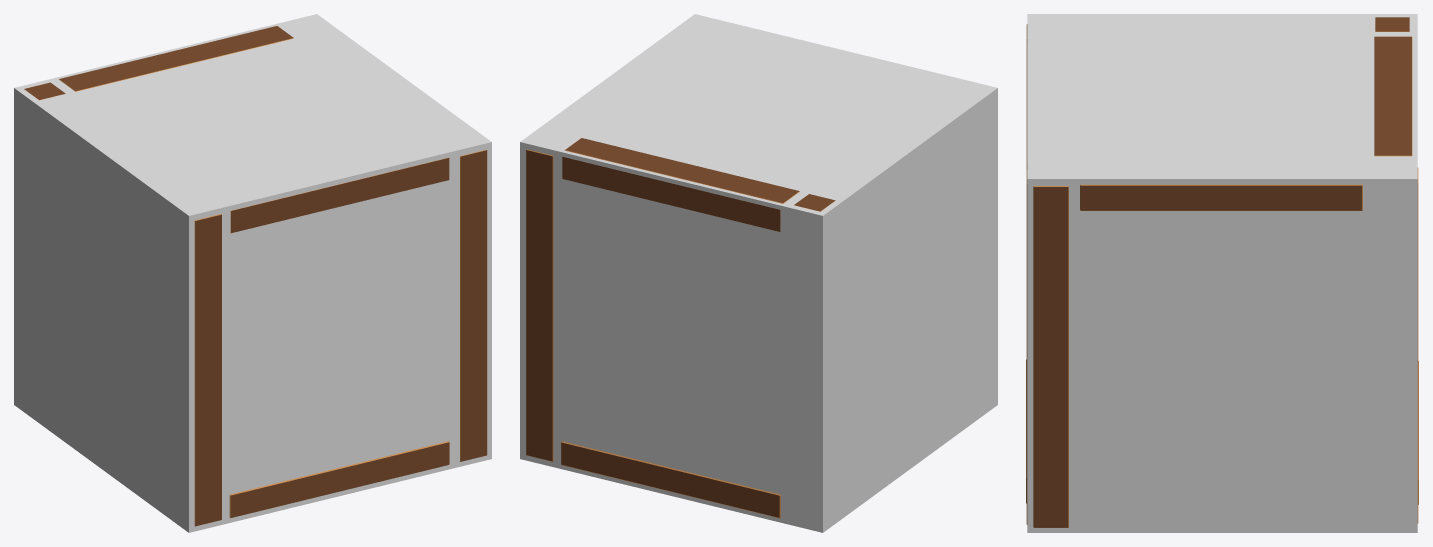
File: prop_crate_b.glb
The picture shows the model from 3 angles, left to right: view 1: azimuth 30°, elevation 25°; view 2: azimuth 150°, elevation 25°; view 3: azimuth 270°, elevation 25°; orthographic projection. The views are drawn at different scales.
Visible parts, largest first — view 1: COL_prop_crate_b_1, prop_crate_b; view 2: COL_prop_crate_b_1, prop_crate_b; view 3: COL_prop_crate_b_1, prop_crate_b.
Part boxes in pixels (x1,y1,x2,y2): COL_prop_crate_b_1: [14, 14, 491, 532]; prop_crate_b: [24, 26, 487, 526]; COL_prop_crate_b_1: [520, 14, 997, 532]; prop_crate_b: [526, 138, 835, 518]; COL_prop_crate_b_1: [1027, 14, 1417, 532]; prop_crate_b: [1026, 17, 1418, 527].
Size of the model in its own units: 0.5011 by 0.5019 by 0.5029.
